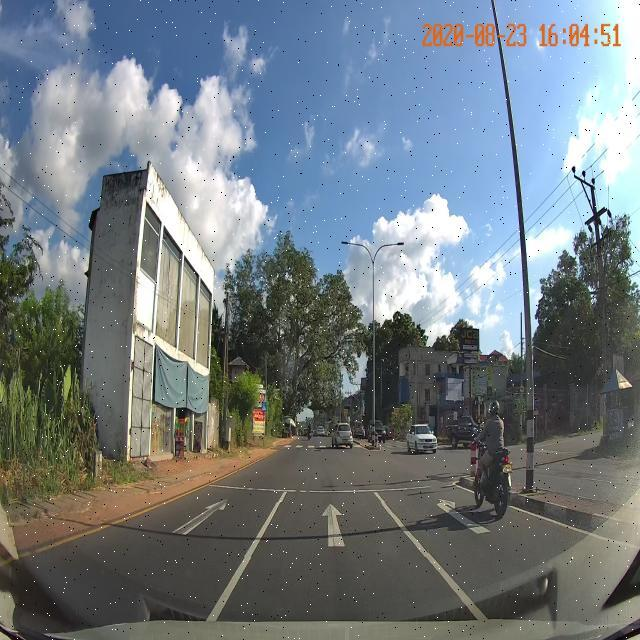forward: (244, 502, 428, 557)
